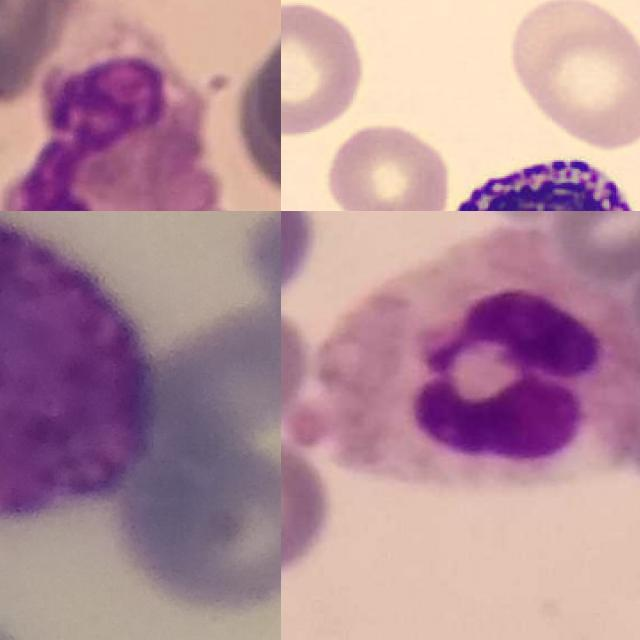Basophil: (0, 216, 160, 524), (429, 139, 640, 211)
Neutrophil: (312, 225, 640, 489), (0, 50, 229, 211)
RBC: (504, 0, 640, 153), (320, 117, 454, 211), (281, 0, 369, 140)
